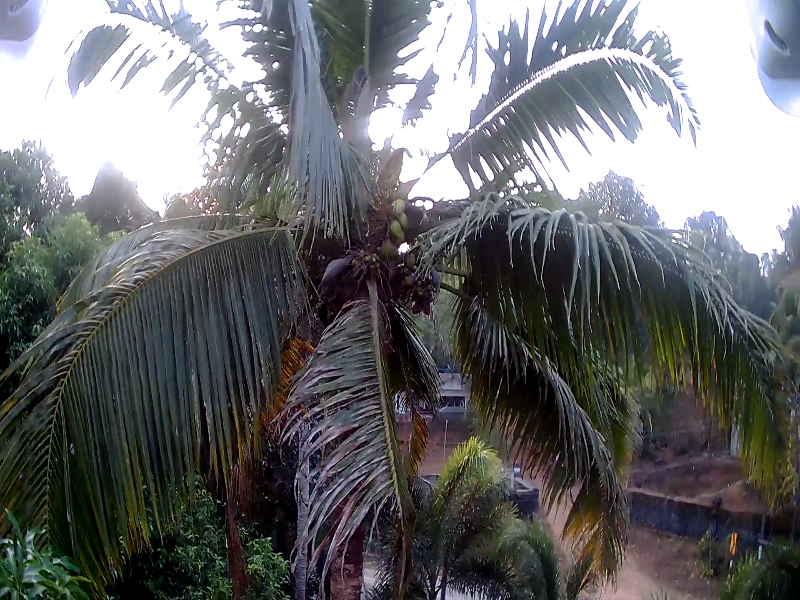coconut: (374, 232, 395, 256), (385, 218, 401, 238), (388, 199, 405, 216), (395, 205, 406, 225)
